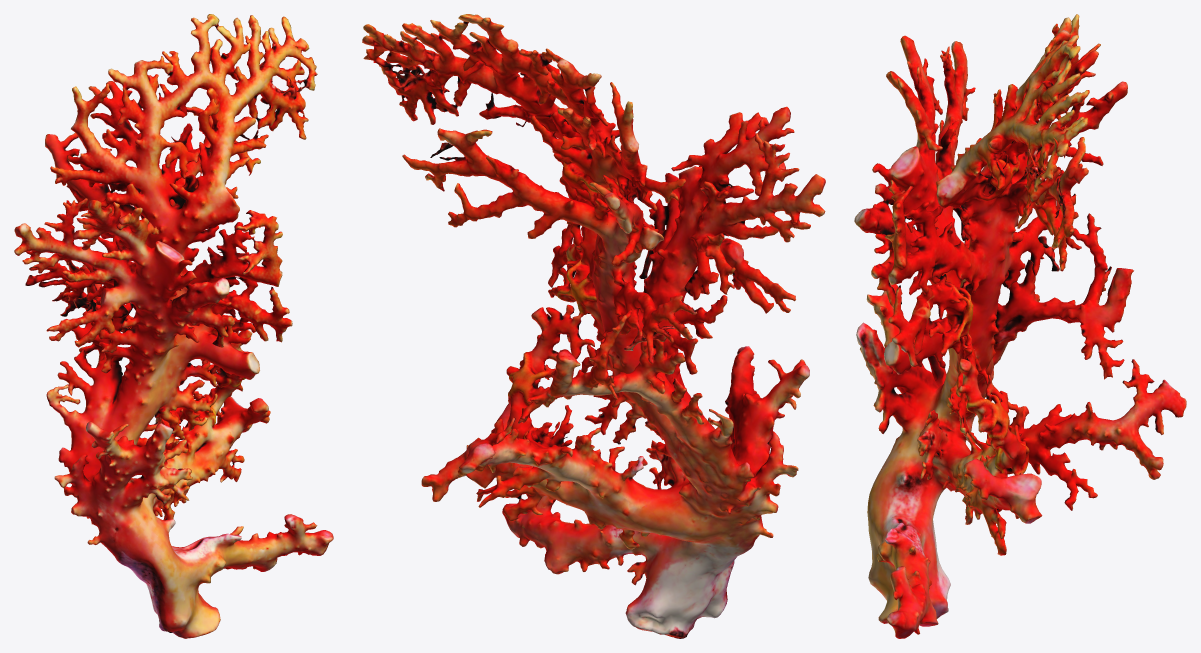
Rendered from Stylaster brochi red.fbx.
3 views of the same model, side by side, from view 1: azimuth 30°, elevation 25°; view 2: azimuth 150°, elevation 25°; view 3: azimuth 270°, elevation 25° (orthographic). The views are drawn at different scales.
Parts seen in each view (by area): view 1: Mesh_0.001; view 2: Mesh_0.001; view 3: Mesh_0.001.
Part boxes in pixels (x1,y1,x2,y2): Mesh_0.001: (14,14,333,638); Mesh_0.001: (362,14,825,638); Mesh_0.001: (854,14,1186,638).
Bounding box in the file's own units: 629 × 953 × 455.
Materials: 1 (1 with a texture image).
